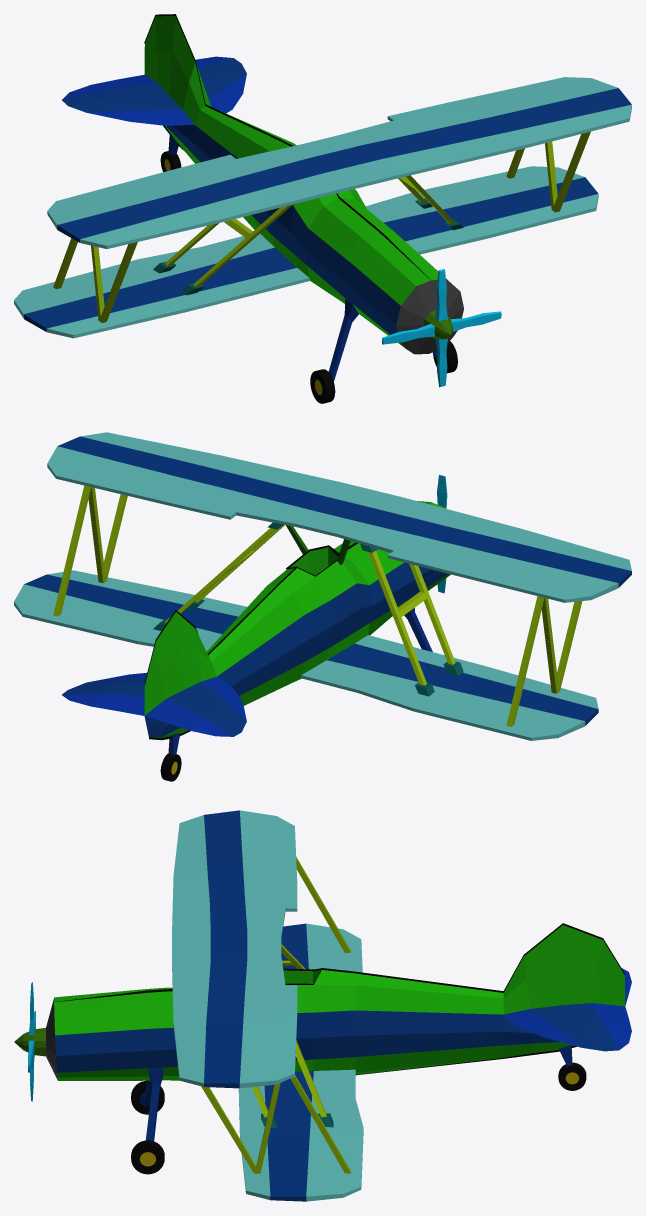
File: doppeldecker.fbx
The picture shows the model from 3 angles, top to bottom: view 1: azimuth 30°, elevation 25°; view 2: azimuth 150°, elevation 25°; view 3: azimuth 270°, elevation 25°; orthographic projection.
Visible parts, largest first — view 1: Flügel, Flügel Streifen, Body .001, Body Streifen, Halterung, Back Flügel, Body Top, Propeller Blätter, Reifen, Halterung Reifen, Body .002, Halterung Breaks; view 2: Flügel, Flügel Streifen, Body .001, Body Streifen, Halterung, Back Flügel, Body .002, Halterung Breaks, Halterung Reifen; view 3: Flügel, Body .001, Flügel Streifen, Body Streifen, Halterung, Back Flügel, Reifen, Body .002, Halterung Reifen, Propeller Blätter, Body Top, Propeller.
Boxes of the visible parts, <box> form: Flügel: <box>14,77,631,338</box>; Flügel Streifen: <box>24,58,631,331</box>; Body .001: <box>144,16,457,347</box>; Body Streifen: <box>166,125,400,334</box>; Halterung: <box>53,131,590,322</box>; Back Flügel: <box>62,56,246,125</box>; Body Top: <box>396,279,463,354</box>; Propeller Blätter: <box>381,269,501,387</box>; Reifen: <box>160,151,457,403</box>; Halterung Reifen: <box>168,133,437,381</box>; Body .002: <box>144,14,430,279</box>; Halterung Breaks: <box>153,198,463,295</box>; Flügel: <box>14,432,631,740</box>; Flügel Streifen: <box>24,436,631,736</box>; Body .001: <box>144,501,450,738</box>; Body Streifen: <box>144,562,447,737</box>; Halterung: <box>53,485,582,726</box>; Back Flügel: <box>62,673,246,736</box>; Body .002: <box>144,502,430,740</box>; Halterung Breaks: <box>153,522,463,696</box>; Halterung Reifen: <box>168,596,432,754</box>; Flügel: <box>172,810,363,1201</box>; Body .001: <box>54,925,625,1080</box>; Flügel Streifen: <box>204,810,618,1201</box>; Body Streifen: <box>55,1010,559,1072</box>; Halterung: <box>201,857,350,1173</box>; Back Flügel: <box>504,968,631,1050</box>; Reifen: <box>131,1062,586,1174</box>; Body .002: <box>54,923,624,1075</box>; Halterung Reifen: <box>139,1045,572,1141</box>; Propeller Blätter: <box>28,982,35,1101</box>; Body Top: <box>46,998,57,1080</box>; Propeller: <box>14,1028,45,1056</box>.
Size of the model in its own units: 716 by 269 by 685.
